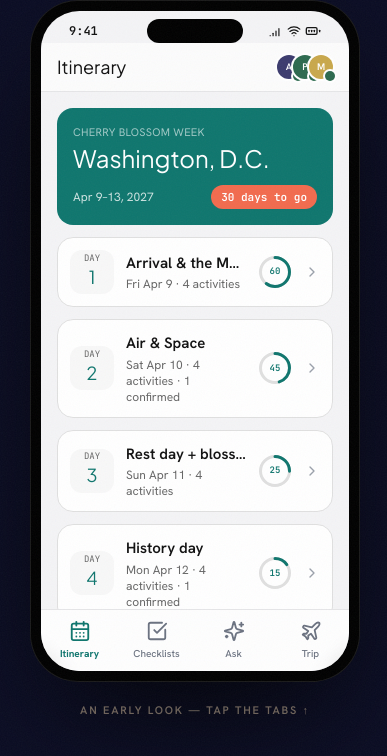
Scenario: AppMockup › lists the whole party and the activity feed
Click the button "Trip" at (310, 640), box 272,616 -> 349,665
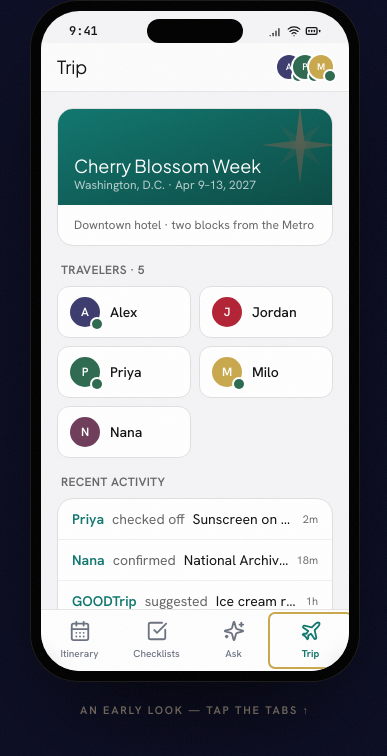
Now the text "Alex" is shown, box 110,302 -> 138,322
Now the text "Jordan" is shown, box 252,302 -> 297,322
Now the text "Priya" in the row of "Milo" is shown, box 110,363 -> 142,381
